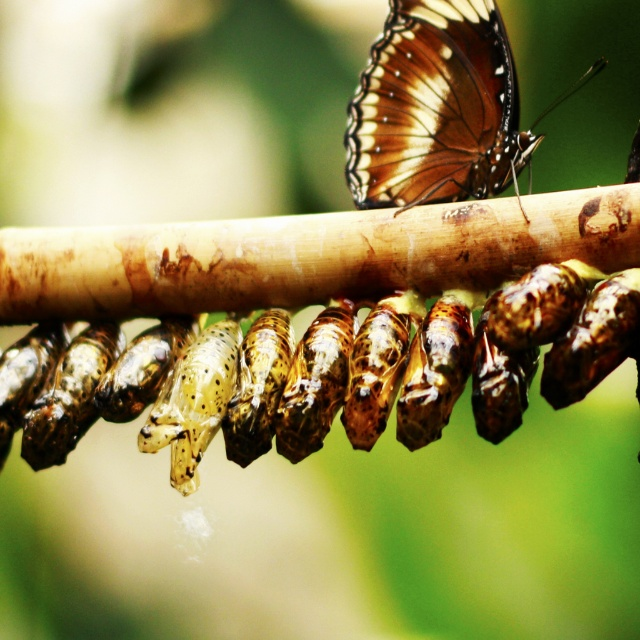Caterpillar: (0, 259, 640, 497)
